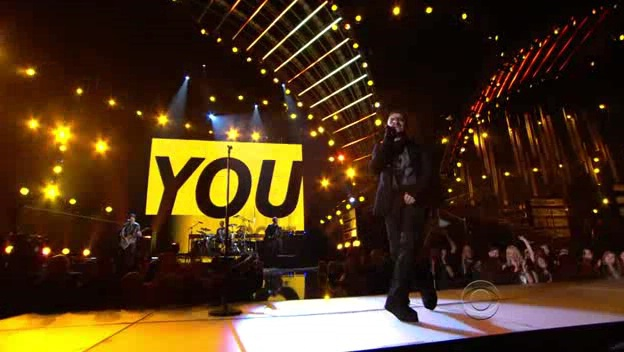person: (367, 110, 433, 219), (364, 110, 430, 219), (370, 110, 436, 219), (367, 107, 433, 216), (367, 113, 433, 222)
target_negative: (39, 219, 583, 252), (228, 250, 350, 342), (353, 180, 580, 223), (554, 142, 595, 314), (202, 323, 574, 338), (402, 334, 613, 339)
